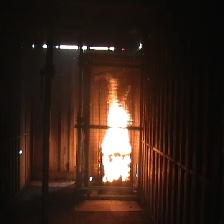fire: (96, 81, 141, 190)
